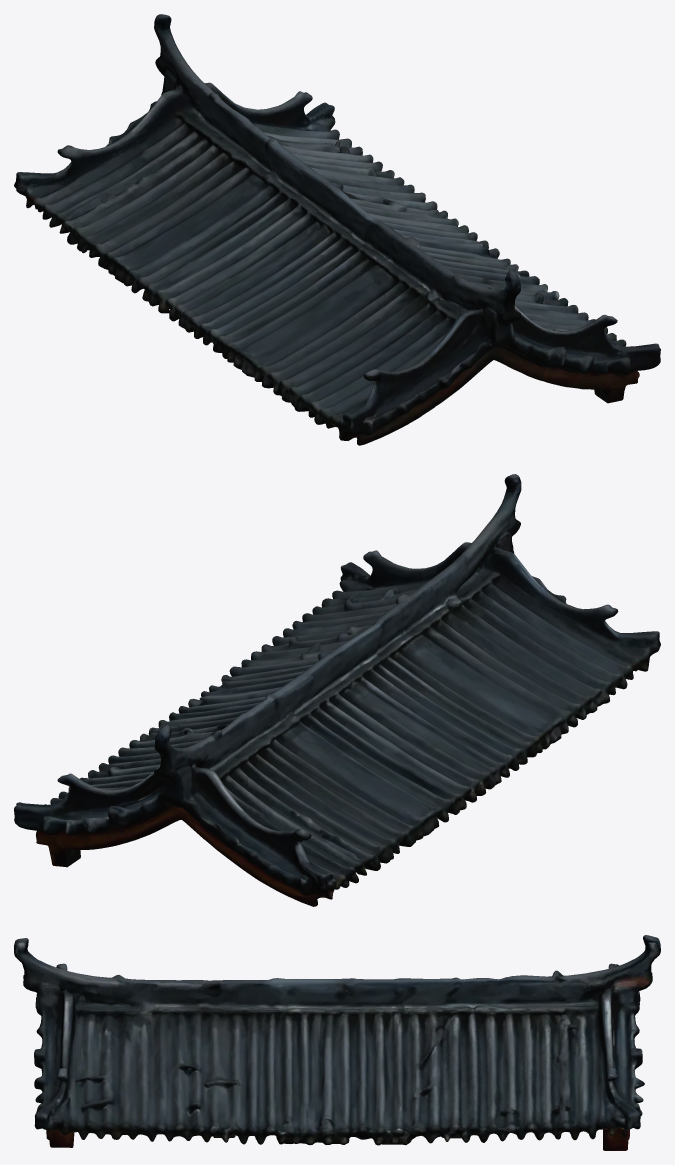
The model's file is roof-tile.glb.
The picture shows the model from 3 angles, top to bottom: view 1: azimuth 30°, elevation 25°; view 2: azimuth 150°, elevation 25°; view 3: azimuth 270°, elevation 25°; orthographic projection. The views are drawn at different scales.
Parts seen in each view (by area): view 1: tripo_node_87071406-4e43-418a-ad5a-f8fcf65ac43d; view 2: tripo_node_87071406-4e43-418a-ad5a-f8fcf65ac43d; view 3: tripo_node_87071406-4e43-418a-ad5a-f8fcf65ac43d.
Part boxes in pixels (x1=…): tripo_node_87071406-4e43-418a-ad5a-f8fcf65ac43d: x1=14, y1=14, x2=660, y2=445; tripo_node_87071406-4e43-418a-ad5a-f8fcf65ac43d: x1=14, y1=474, x2=660, y2=906; tripo_node_87071406-4e43-418a-ad5a-f8fcf65ac43d: x1=14, y1=935, x2=660, y2=1150.
Size of the model in its own units: 0.5108 by 0.274 by 0.9987.
1 material, 1 textured.
